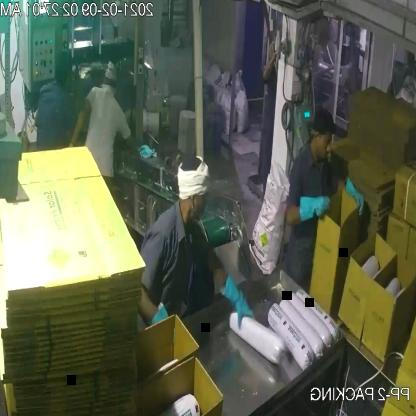glove: (218, 270, 258, 332), (295, 189, 334, 229), (342, 176, 366, 220)
